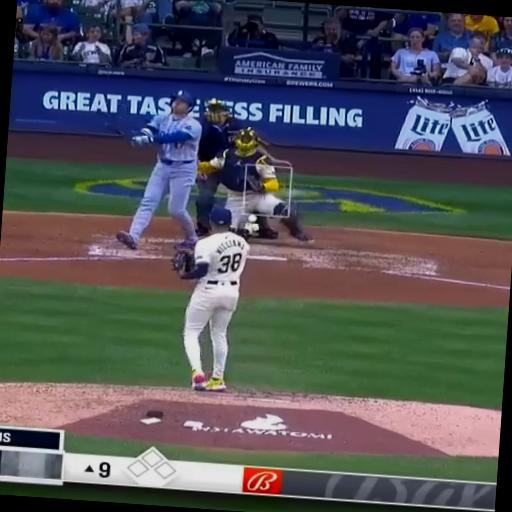bat: (94, 108, 149, 143)
